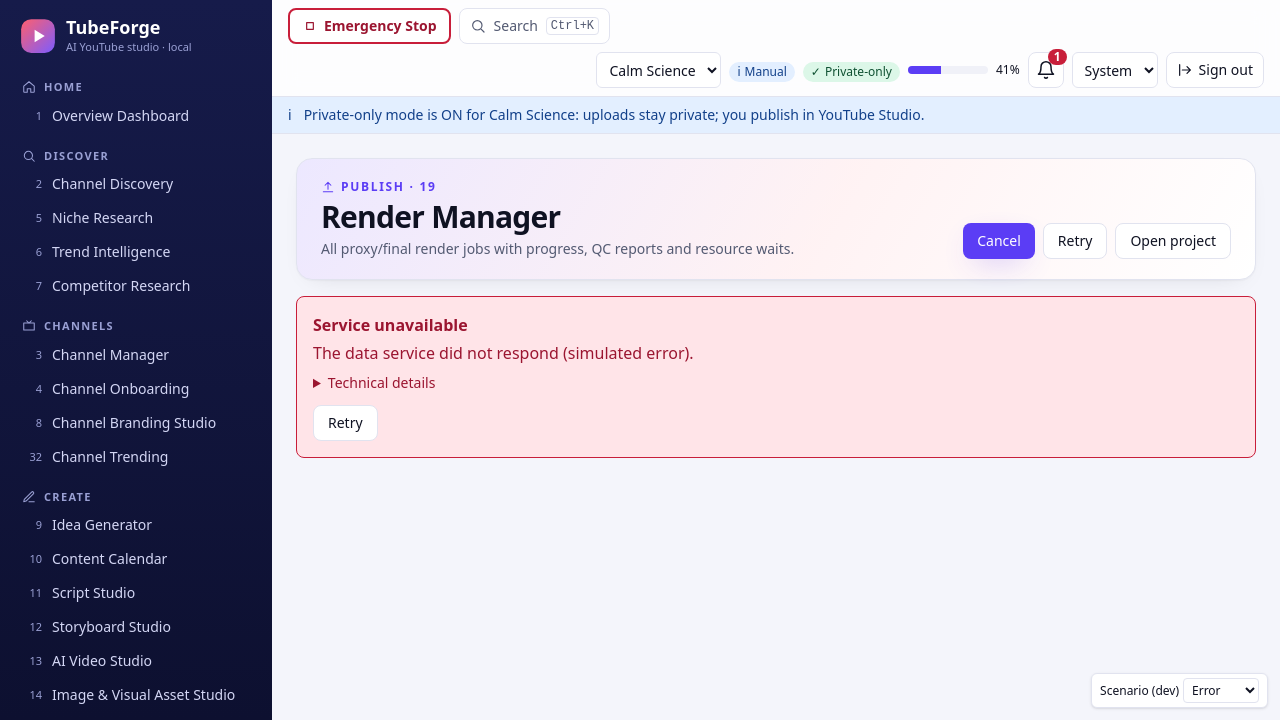
Test: app shell › shows problem+json errors with code and request id, and retries
Expected: the message with test id "state-error" shows "Service unavailable", x1=313 y1=314 x2=468 y2=336
What coordinates should you click on to do the following:
click the button "Retry" below "Technical details"
I would click on:
 (345, 423)
Its box is x1=313 y1=405 x2=378 y2=441.
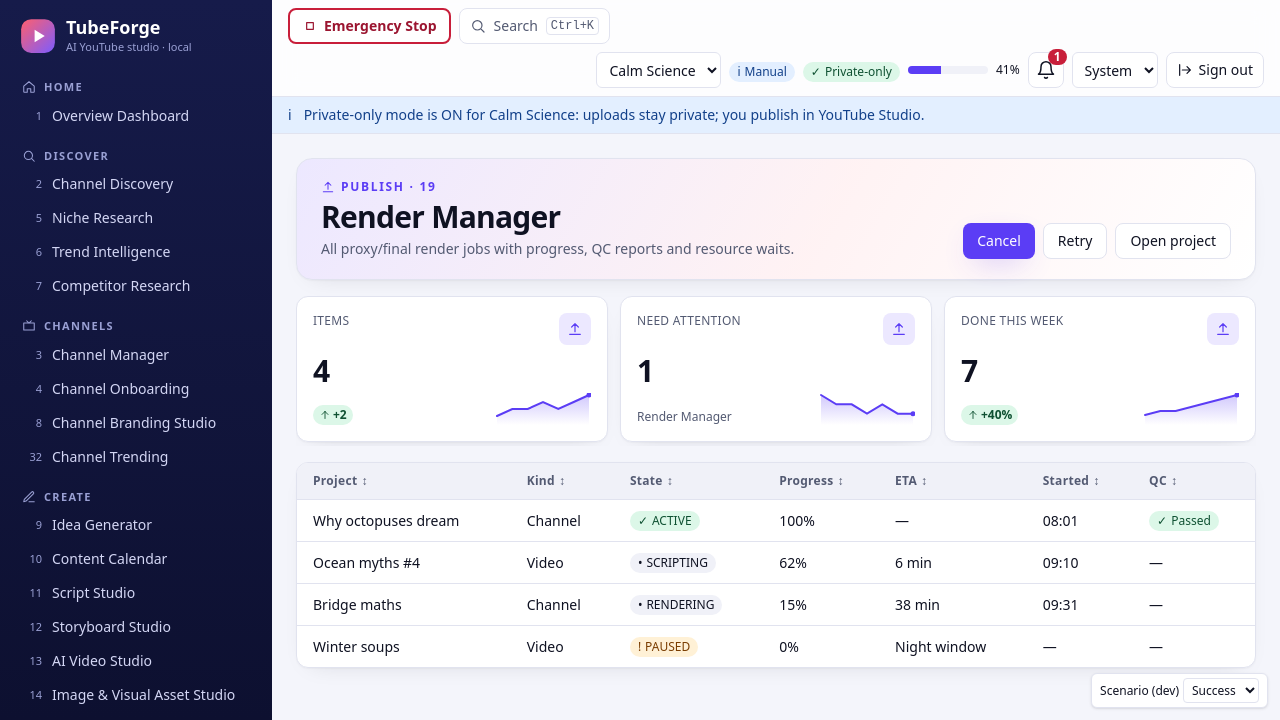
Expected: the element with test id "state-success" is shown, x1=296 y1=296 x2=1256 y2=668
